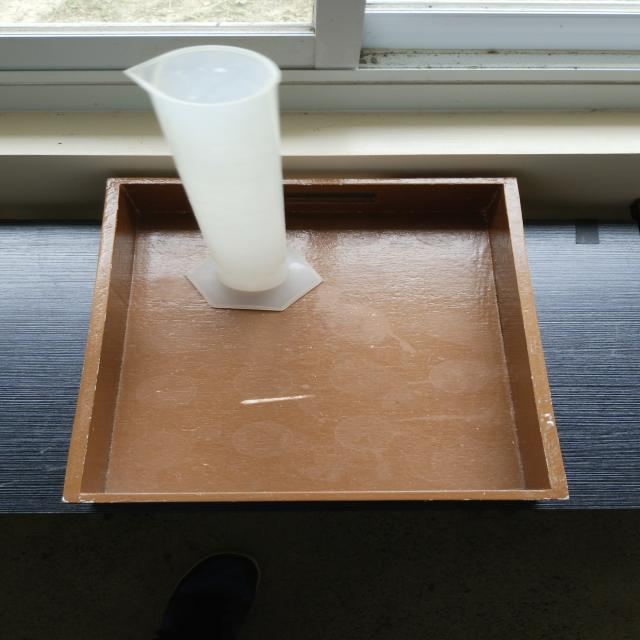graduated_cylinder: (96, 43, 344, 320)
